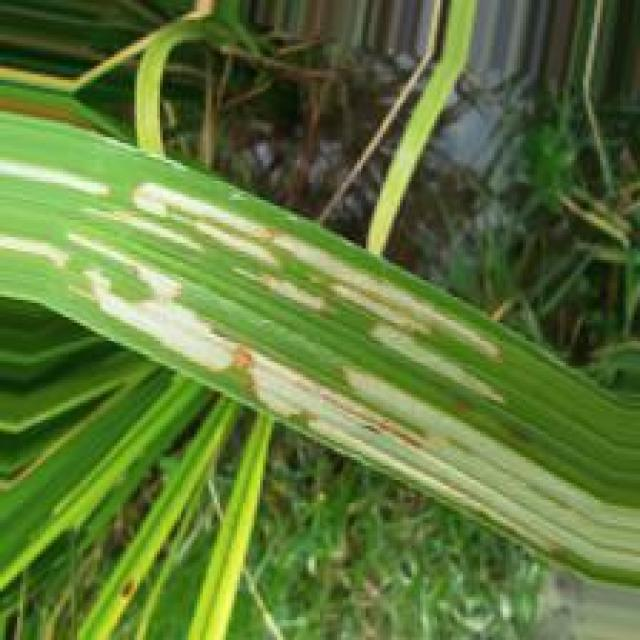Rice_Hispa: (94, 240, 640, 570), (269, 225, 503, 365)
